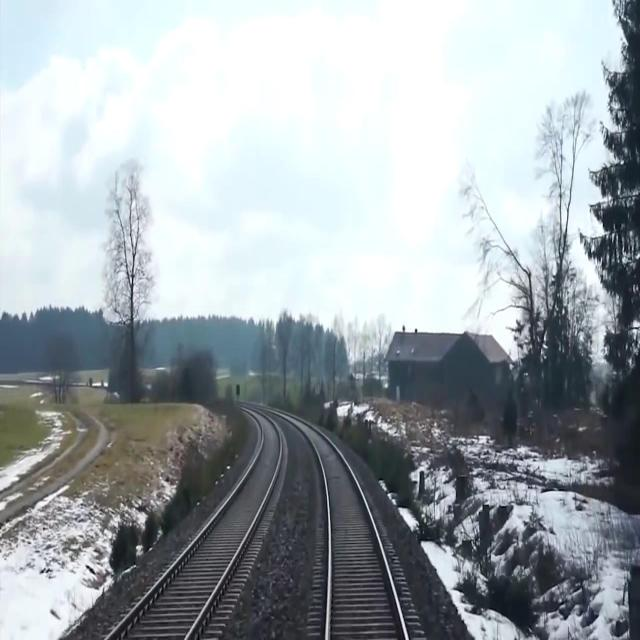rail-track: (112, 417, 278, 639), (304, 426, 404, 639)
